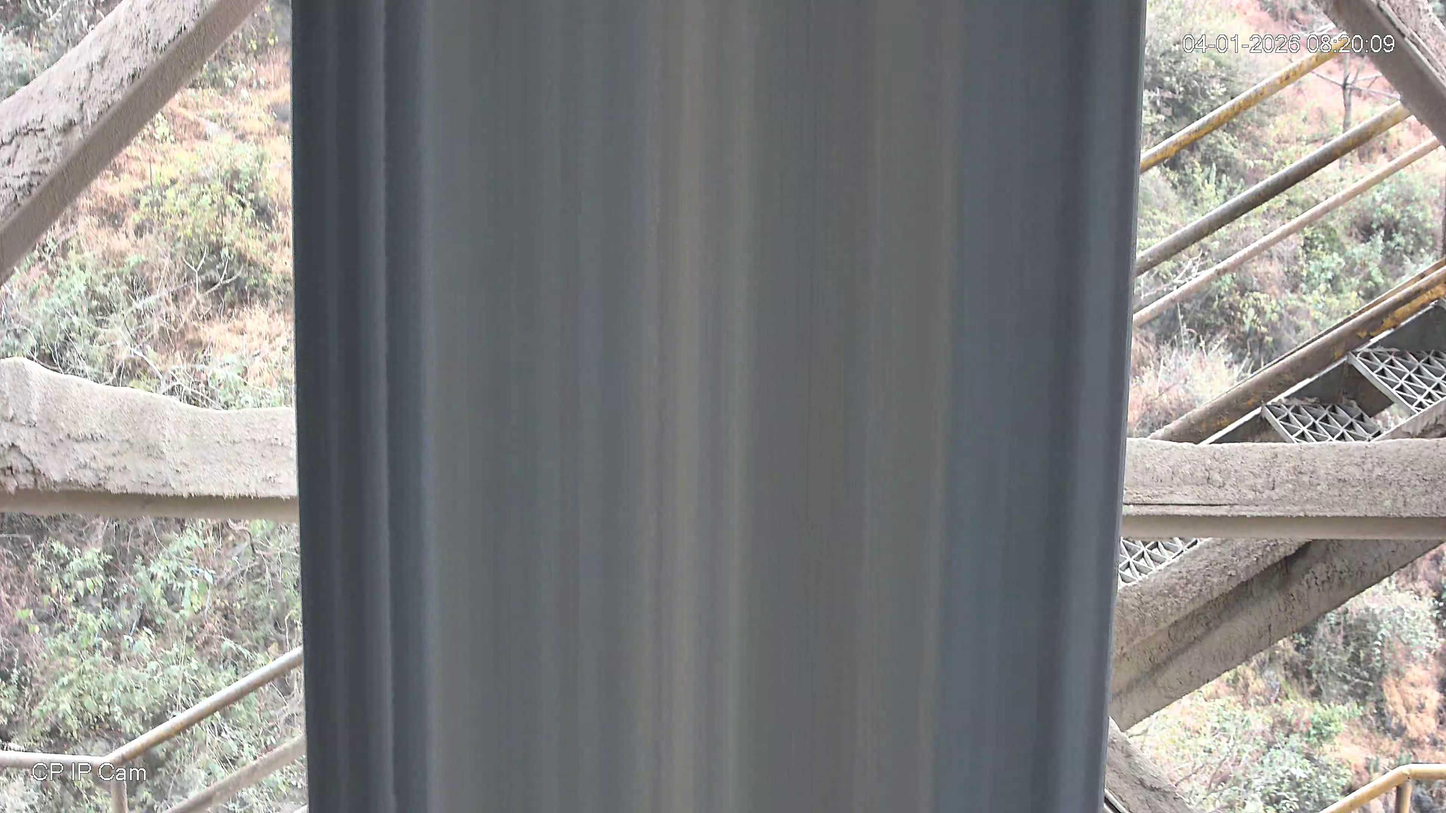belt_roi: (290, 0, 1151, 813)
